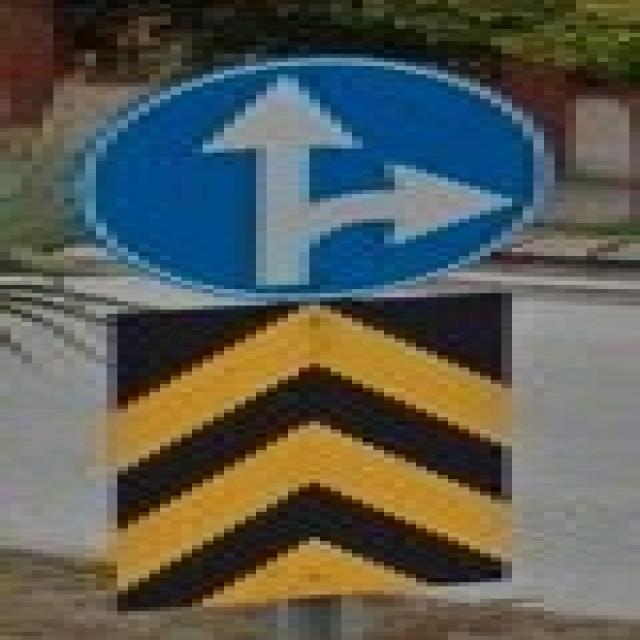Straight or Right: (81, 59, 561, 298)
